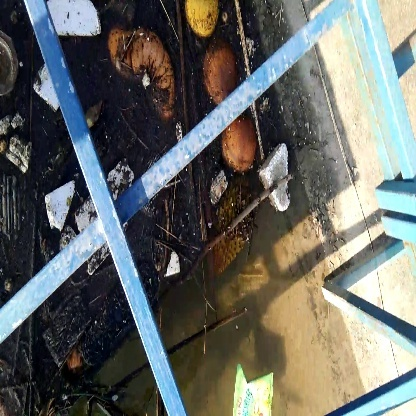plastic-garbage: (261, 139, 300, 210)
